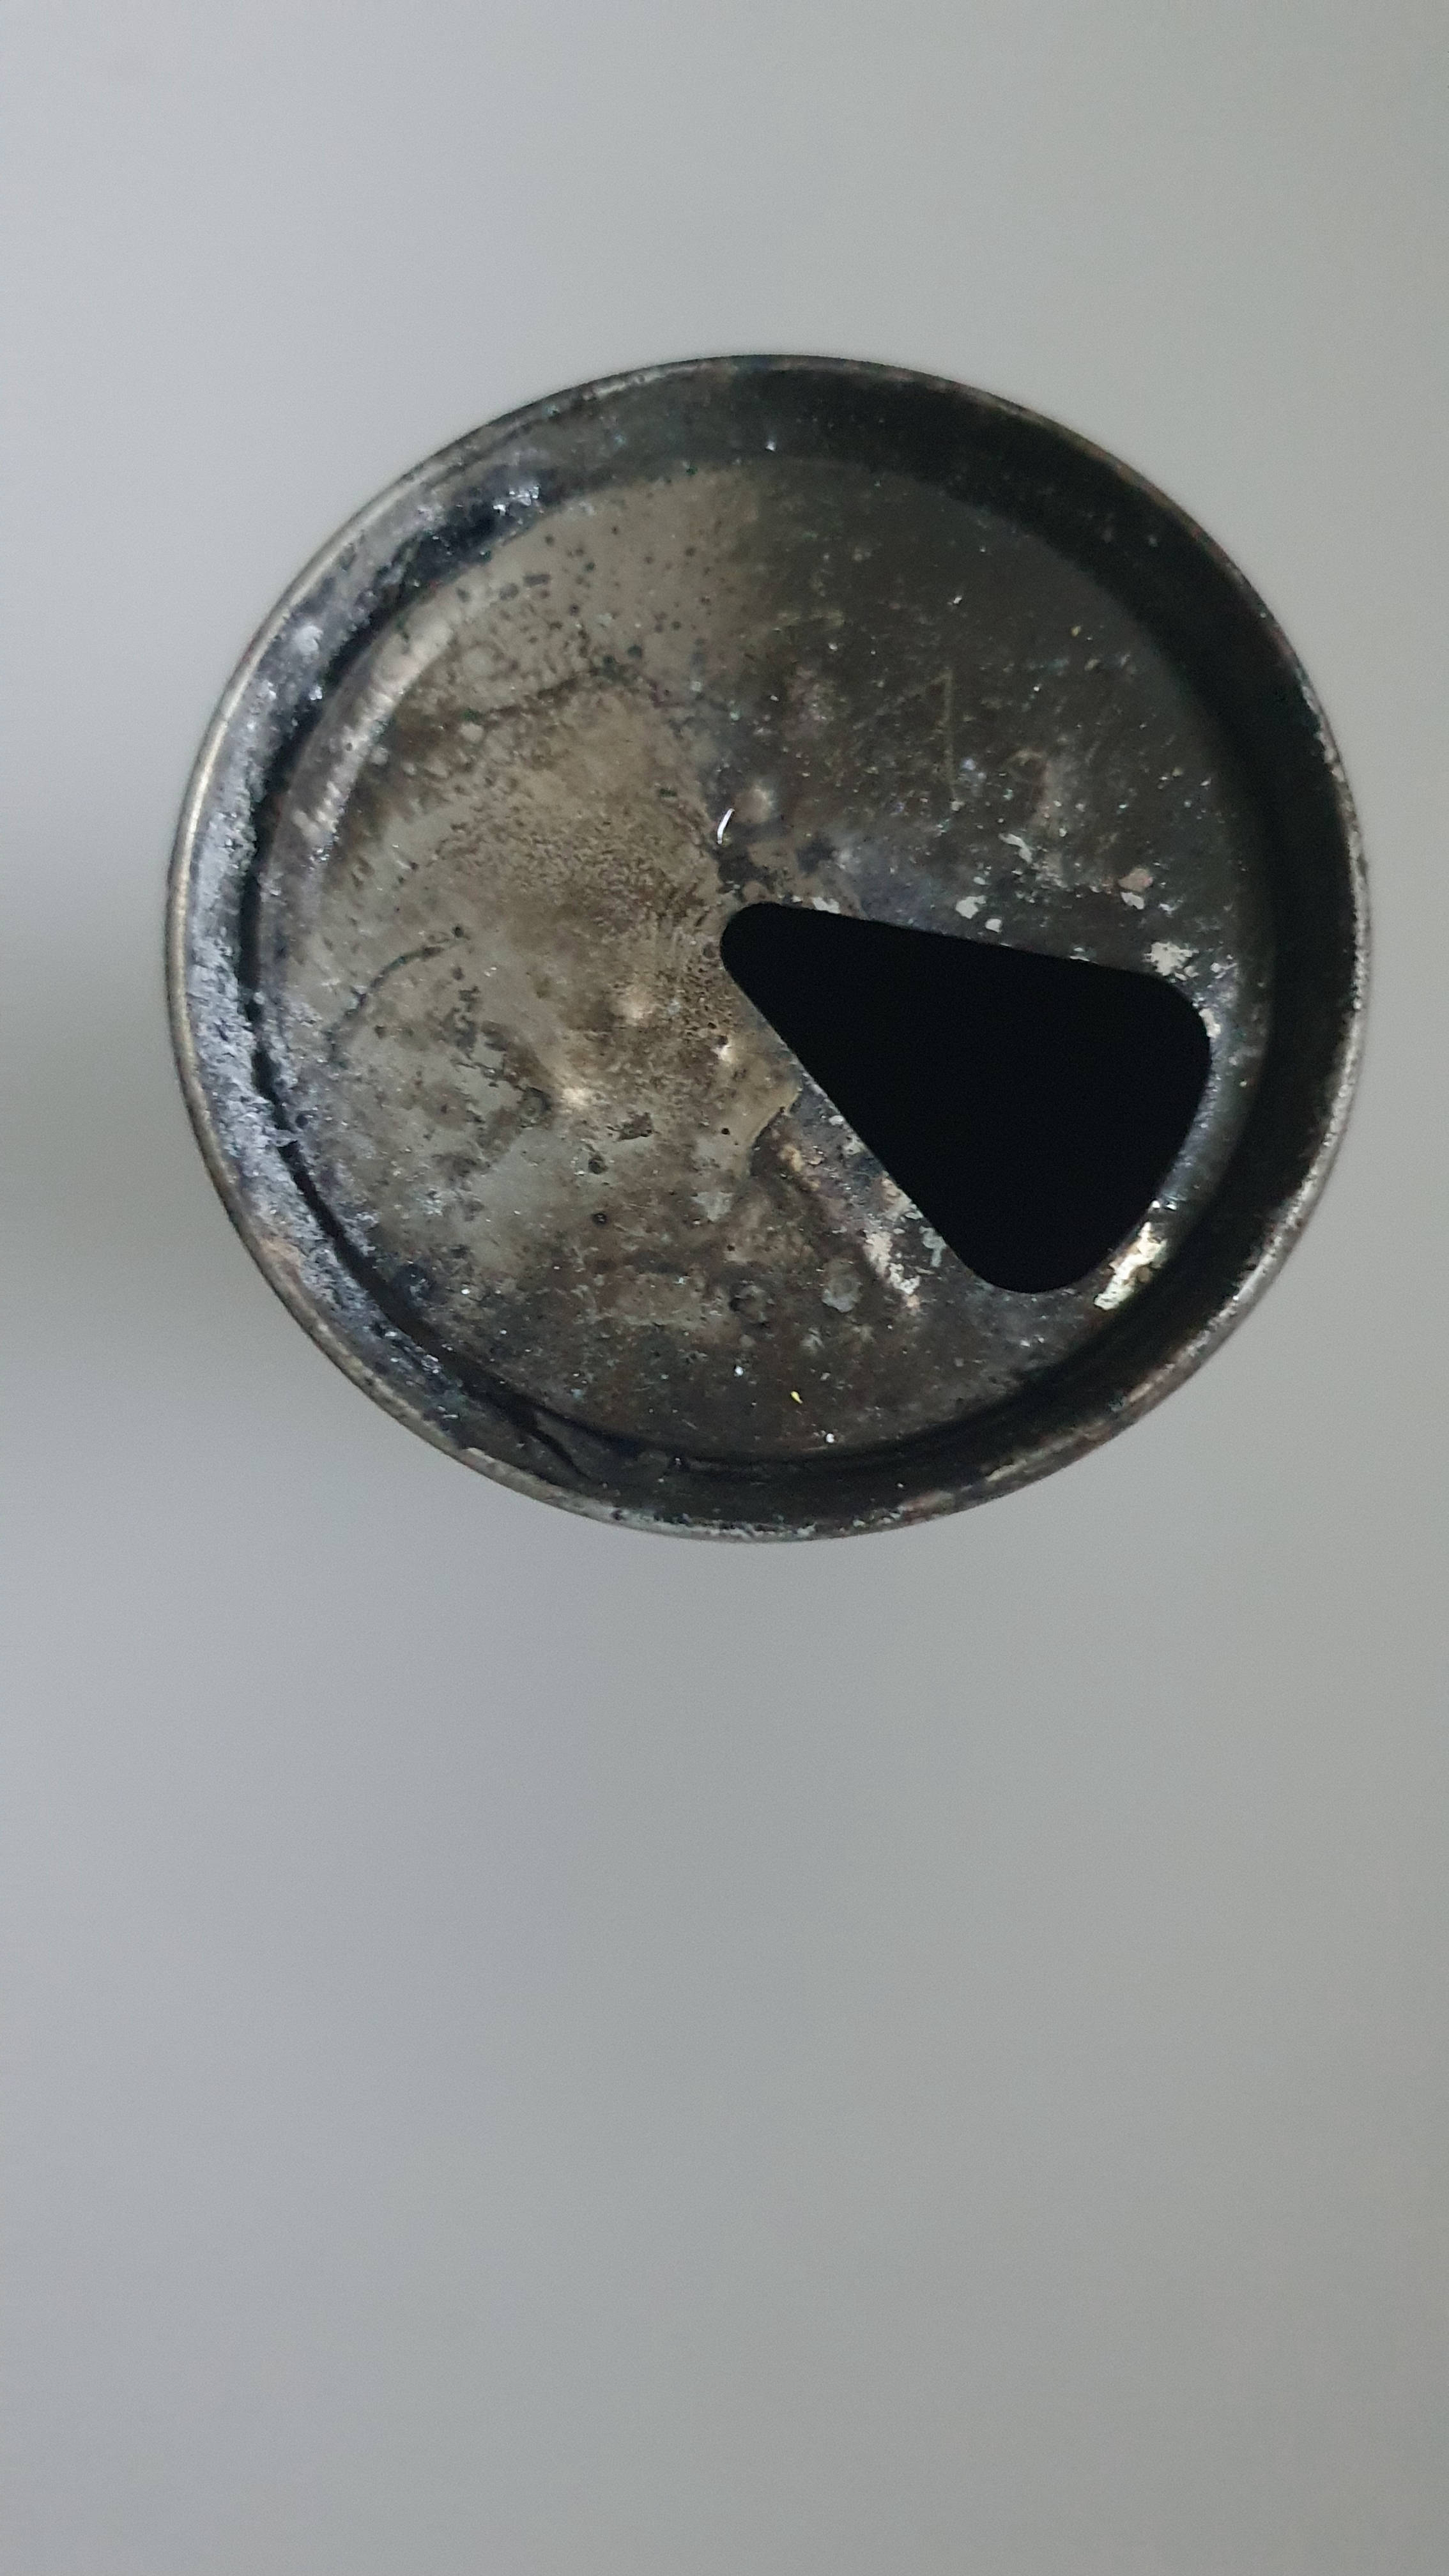metal: (113, 327, 1419, 1582)
